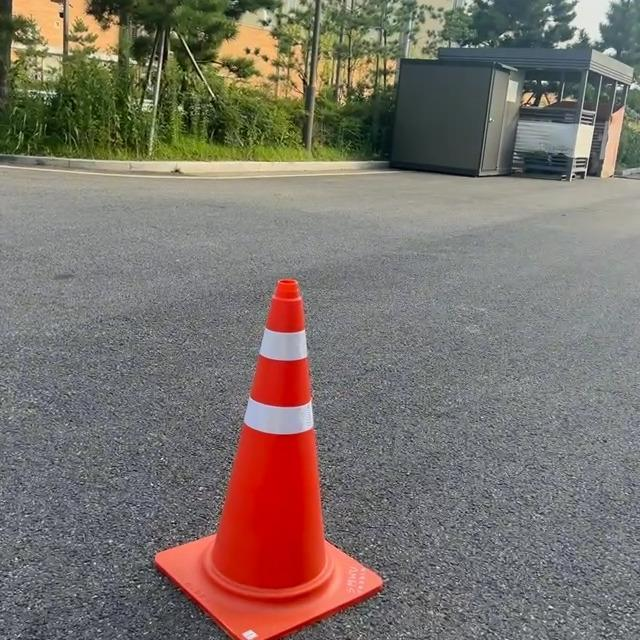fallen_object: (167, 227, 360, 640)
